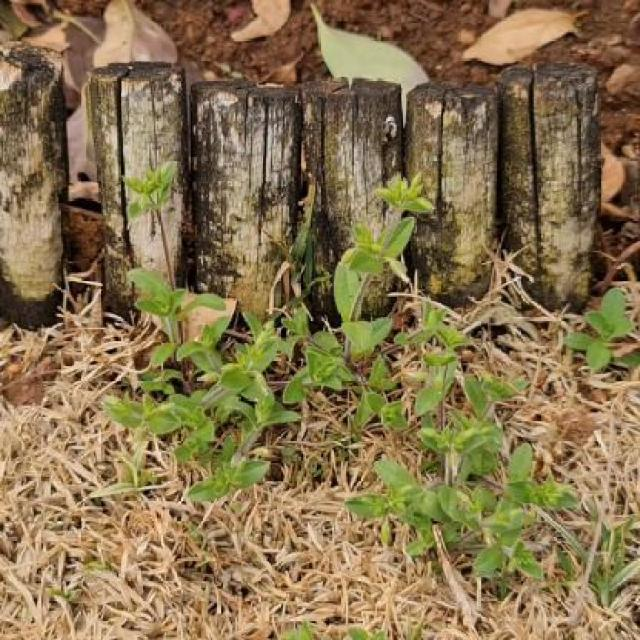weed: (105, 180, 580, 590)
